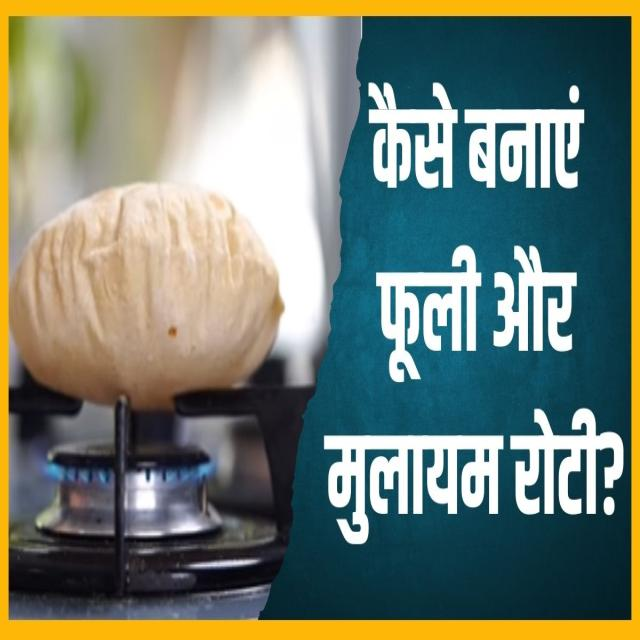ROTI: (10, 183, 283, 410)
